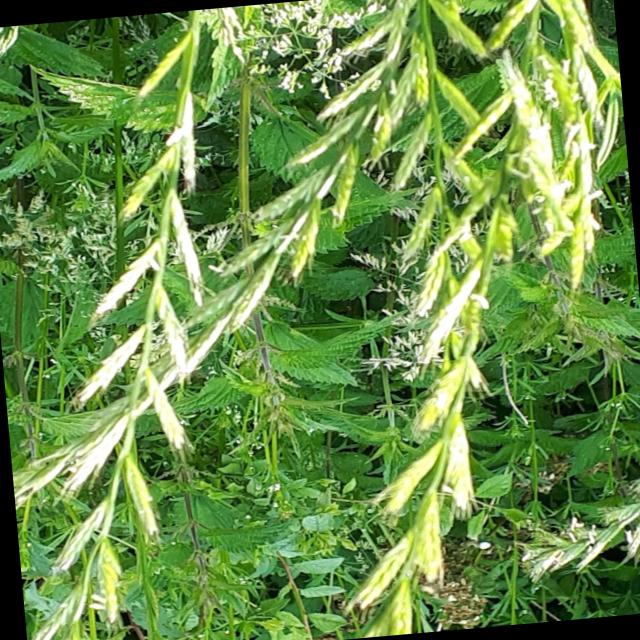Lolium: (292, 0, 640, 637), (0, 8, 264, 640)
